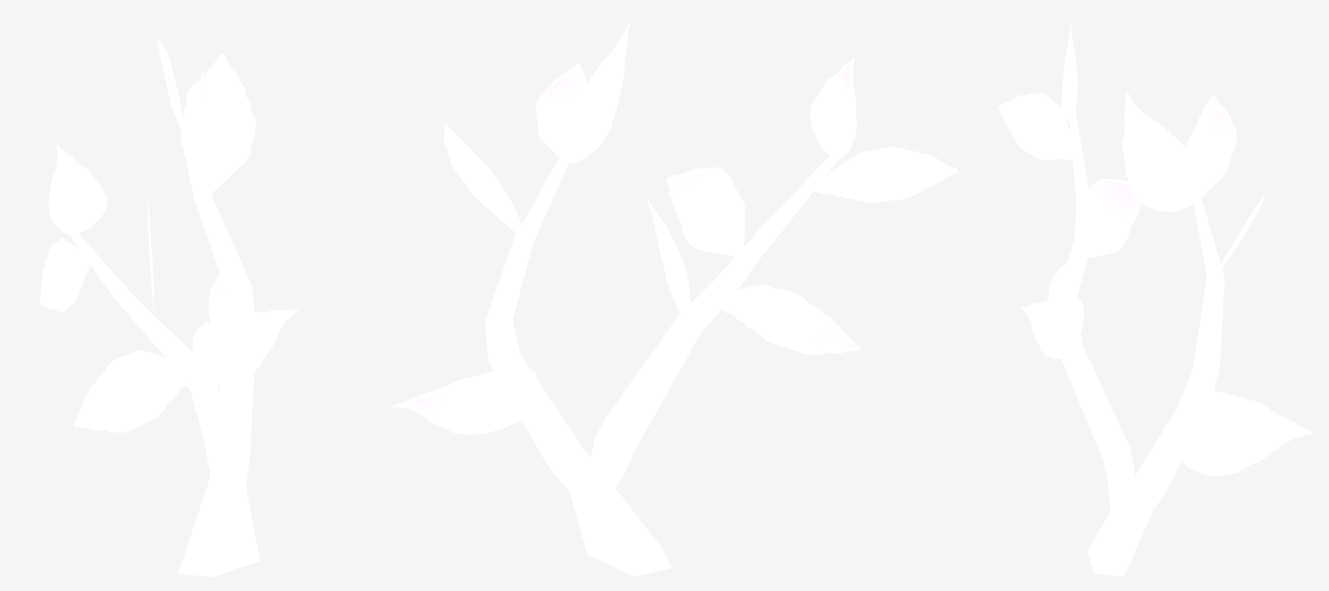
The picture shows the model from 3 angles, left to right: view 1: azimuth 30°, elevation 25°; view 2: azimuth 150°, elevation 25°; view 3: azimuth 270°, elevation 25°; orthographic projection. The views are drawn at different scales.
Visible parts, largest first — view 1: SM_Cadavaberry_Bush_v2_LOD0; view 2: SM_Cadavaberry_Bush_v2_LOD0; view 3: SM_Cadavaberry_Bush_v2_LOD0.
Boxes of the visible parts, x1,y1,x2,y2 form: SM_Cadavaberry_Bush_v2_LOD0: [39, 39, 297, 576]; SM_Cadavaberry_Bush_v2_LOD0: [393, 23, 958, 576]; SM_Cadavaberry_Bush_v2_LOD0: [998, 22, 1311, 576].
Bounding box in the file's own units: 0.4994 × 0.6532 × 0.3898.
Materials: 1 (1 with a texture image).
